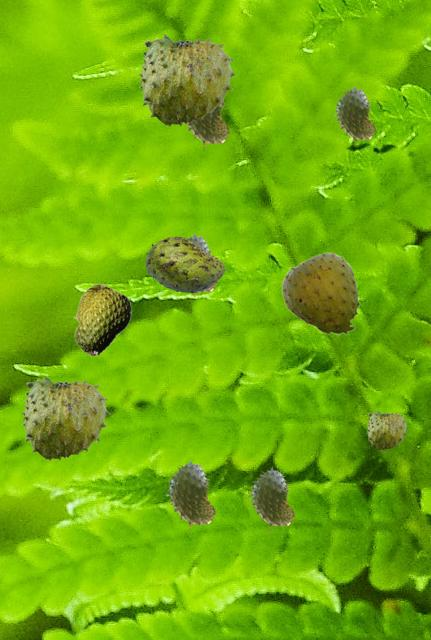guyabano: (138, 33, 235, 125), (21, 375, 109, 459), (280, 252, 359, 335), (145, 236, 224, 292), (73, 283, 131, 356), (166, 460, 215, 529), (249, 467, 294, 530), (334, 86, 375, 143), (186, 233, 217, 296), (183, 106, 229, 148), (366, 410, 407, 449)
